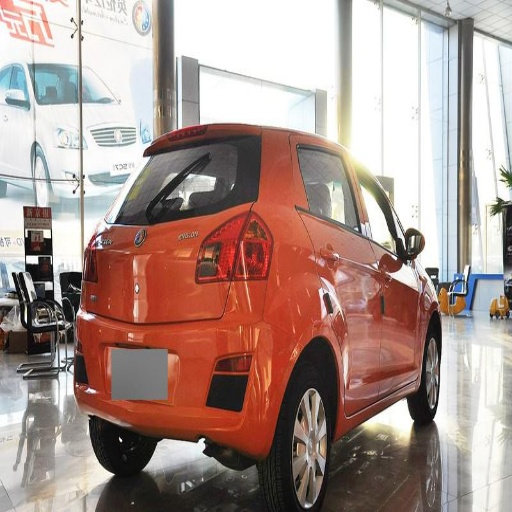back_bumper: (81, 281, 290, 452)
back_right_door: (294, 135, 381, 397)
trunk: (85, 207, 244, 347)
